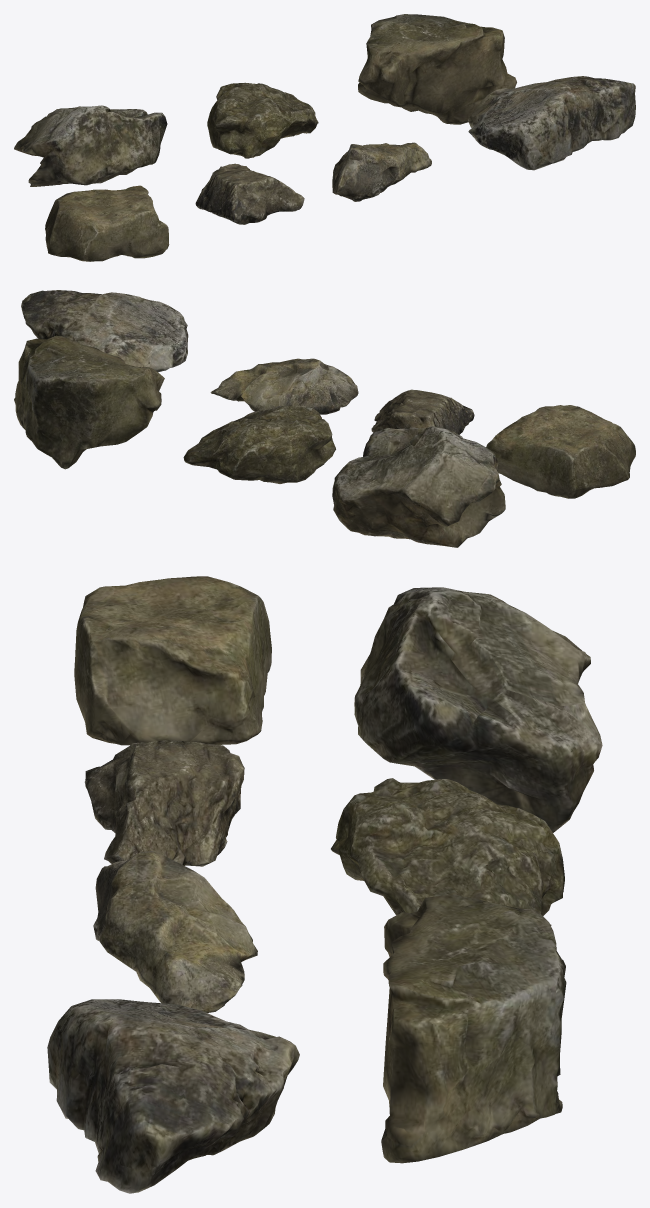
Rendered from rock_moss_set_02.glb.
The picture shows the model from 3 angles, top to bottom: view 1: azimuth 30°, elevation 25°; view 2: azimuth 150°, elevation 25°; view 3: azimuth 270°, elevation 25°; orthographic projection. The views are drawn at different scales.
Parts seen in each view (by area): view 1: rock_moss_set_02_rock13, rock_moss_set_02_rock10, rock_moss_set_02_rock11, rock_moss_set_02_rock07, rock_moss_set_02_rock12, rock_moss_set_02_rock08, rock_moss_set_02_rock09; view 2: rock_moss_set_02_rock11, rock_moss_set_02_rock13, rock_moss_set_02_rock07, rock_moss_set_02_rock10, rock_moss_set_02_rock12, rock_moss_set_02_rock09, rock_moss_set_02_rock08; view 3: rock_moss_set_02_rock13, rock_moss_set_02_rock11, rock_moss_set_02_rock10, rock_moss_set_02_rock07, rock_moss_set_02_rock12, rock_moss_set_02_rock09, rock_moss_set_02_rock08.
Boxes of the visible parts, bbox=[...] form: rock_moss_set_02_rock13: bbox=[358, 14, 516, 124]; rock_moss_set_02_rock10: bbox=[468, 76, 635, 170]; rock_moss_set_02_rock11: bbox=[14, 105, 167, 186]; rock_moss_set_02_rock07: bbox=[45, 185, 169, 261]; rock_moss_set_02_rock12: bbox=[207, 82, 318, 158]; rock_moss_set_02_rock08: bbox=[195, 163, 304, 224]; rock_moss_set_02_rock09: bbox=[332, 142, 431, 201]; rock_moss_set_02_rock11: bbox=[332, 426, 505, 547]; rock_moss_set_02_rock13: bbox=[14, 336, 164, 469]; rock_moss_set_02_rock07: bbox=[486, 405, 635, 498]; rock_moss_set_02_rock10: bbox=[21, 290, 188, 372]; rock_moss_set_02_rock12: bbox=[183, 405, 335, 483]; rock_moss_set_02_rock09: bbox=[210, 358, 358, 414]; rock_moss_set_02_rock08: bbox=[371, 389, 474, 434]; rock_moss_set_02_rock13: bbox=[381, 894, 566, 1163]; rock_moss_set_02_rock11: bbox=[354, 587, 602, 832]; rock_moss_set_02_rock10: bbox=[47, 999, 299, 1193]; rock_moss_set_02_rock07: bbox=[74, 576, 271, 745]; rock_moss_set_02_rock12: bbox=[331, 778, 564, 925]; rock_moss_set_02_rock09: bbox=[93, 850, 257, 1012]; rock_moss_set_02_rock08: bbox=[84, 740, 244, 866].
Bounding box in the file's own units: 8.28 × 1.37 × 3.41.
Materials: 1 (1 with a texture image).
